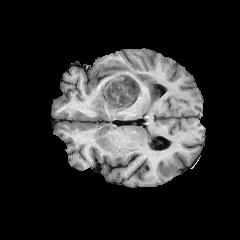glioma: (91, 60, 159, 123)
